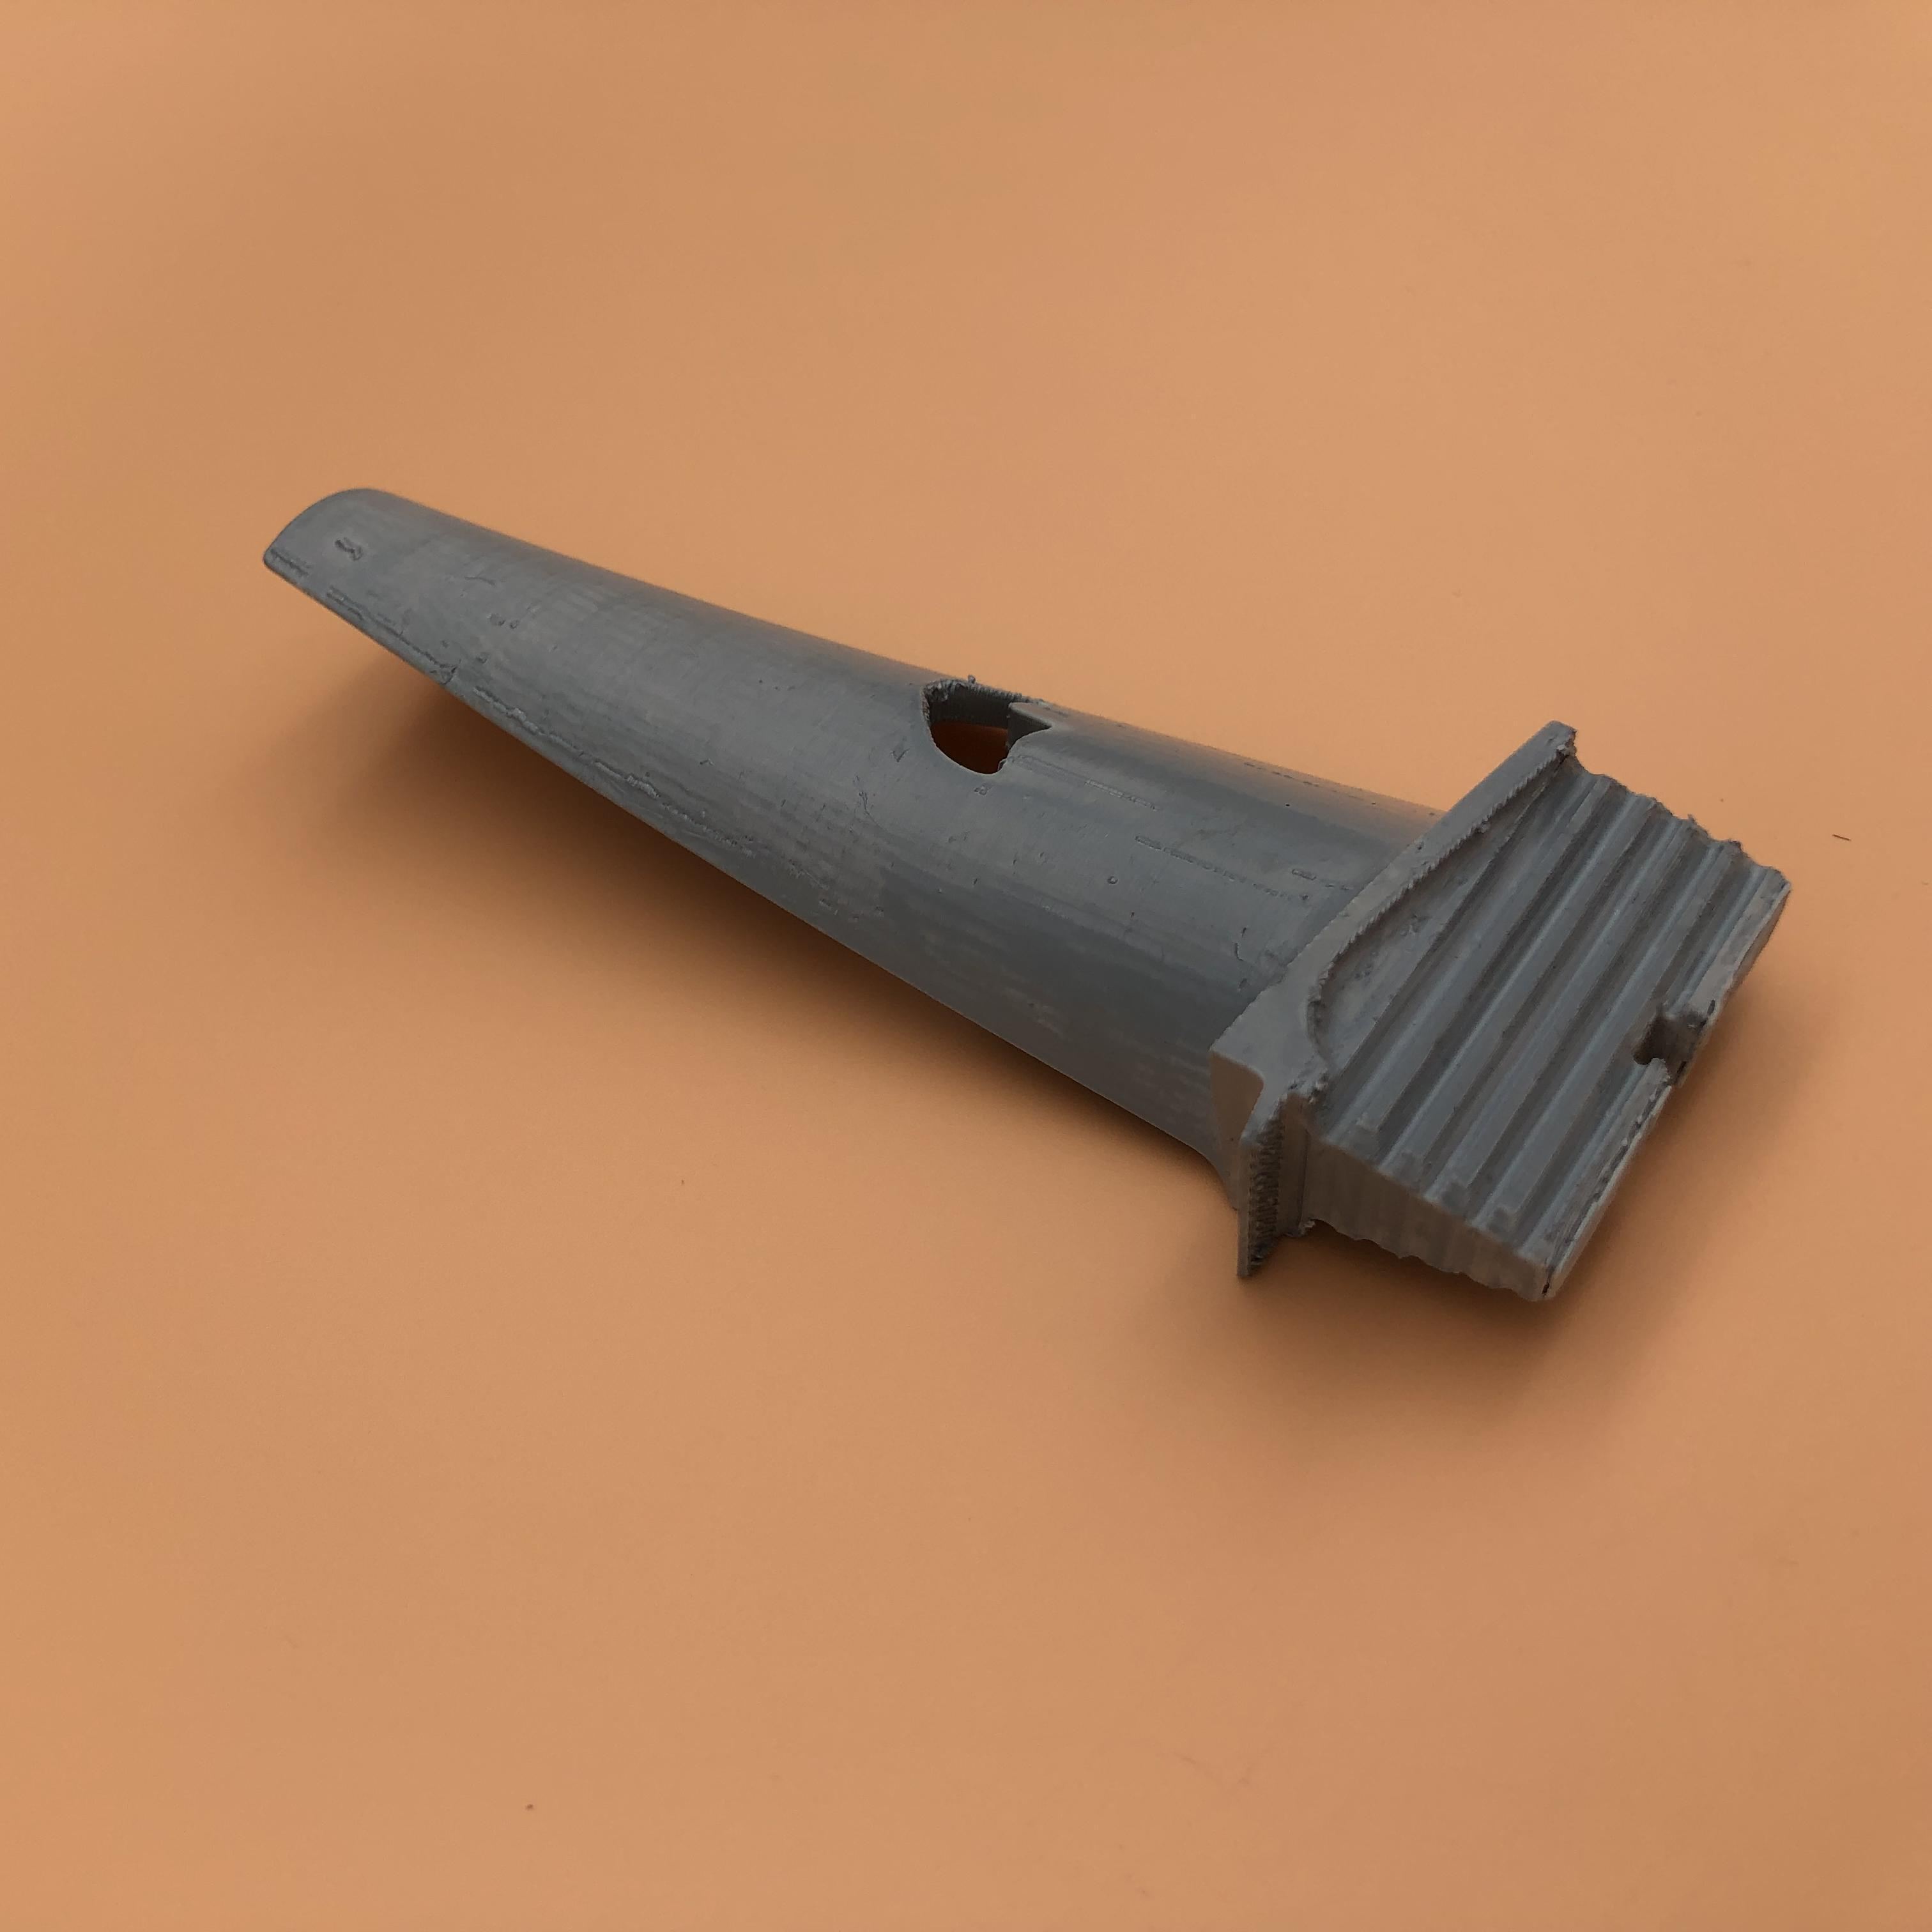breakdown: (925, 672, 1074, 770)
